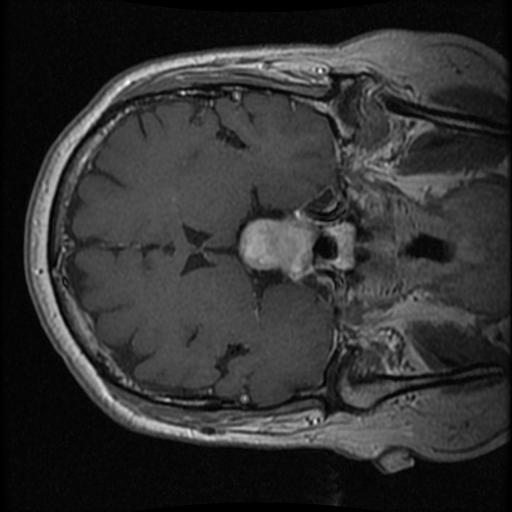pituitary tumour: (237, 218, 356, 272)
